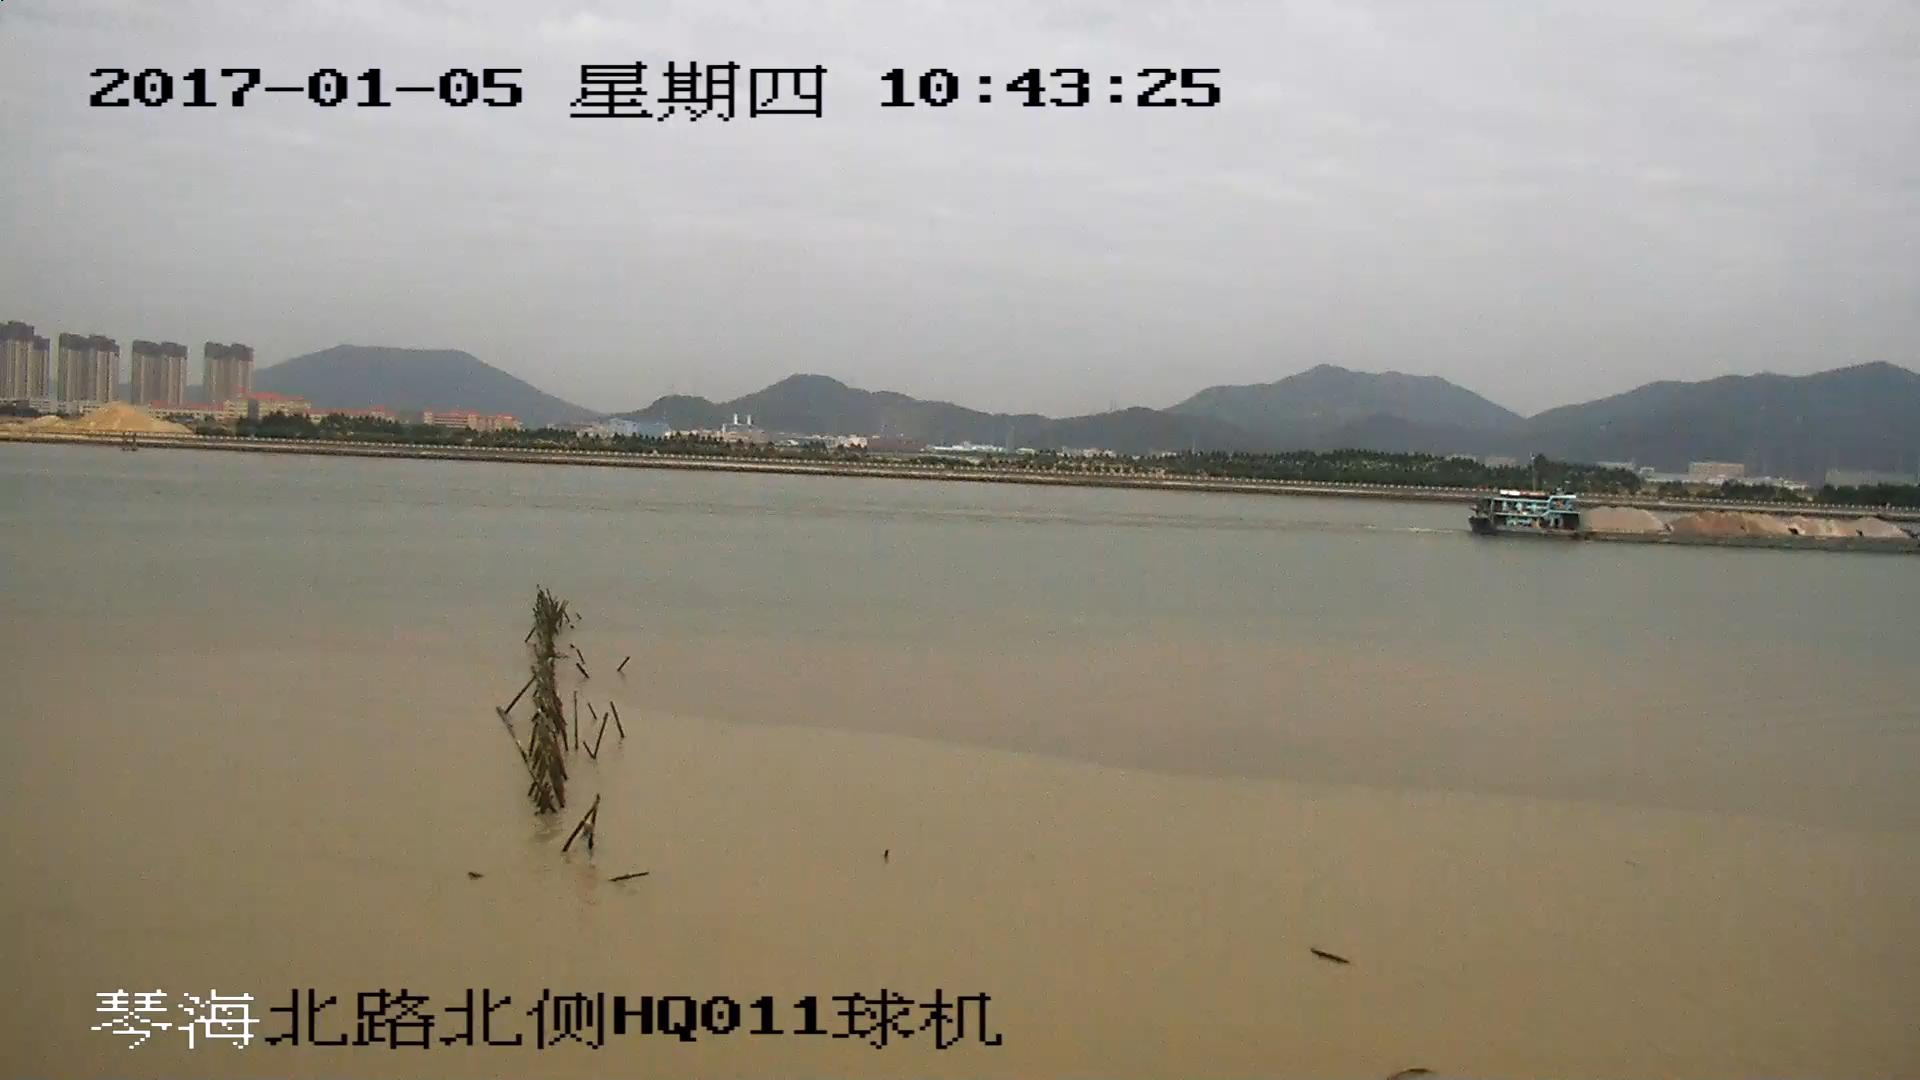ore carrier: (1472, 488, 1920, 552)
